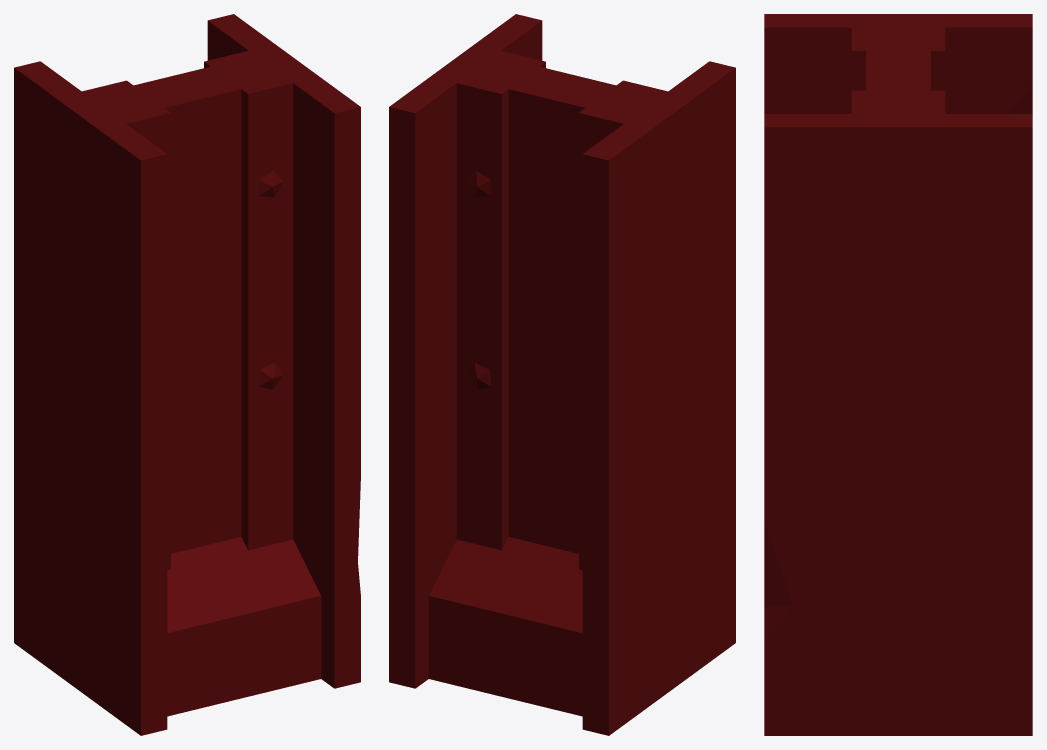
File: SW_ENV_PillarGirderBase_1m.fbx
3 renders of one model, left to right at view 1: azimuth 30°, elevation 25°; view 2: azimuth 150°, elevation 25°; view 3: azimuth 270°, elevation 25°, orthographic. The views are drawn at different scales.
Parts seen in each view (by area): view 1: SW_ENV_PillarGirderBase_1m; view 2: SW_ENV_PillarGirderBase_1m; view 3: SW_ENV_PillarGirderBase_1m.
Part boxes in pixels (x1,y1,x2,y2): SW_ENV_PillarGirderBase_1m: (14,14,360,735); SW_ENV_PillarGirderBase_1m: (389,14,735,735); SW_ENV_PillarGirderBase_1m: (764,14,1032,735).
Bounding box in the file's own units: 40 × 100 × 40.
